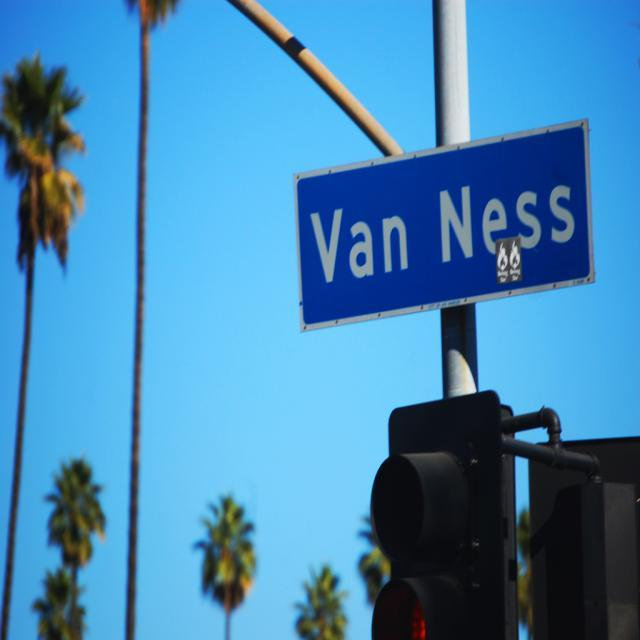off traffic light: (367, 391, 506, 639)
